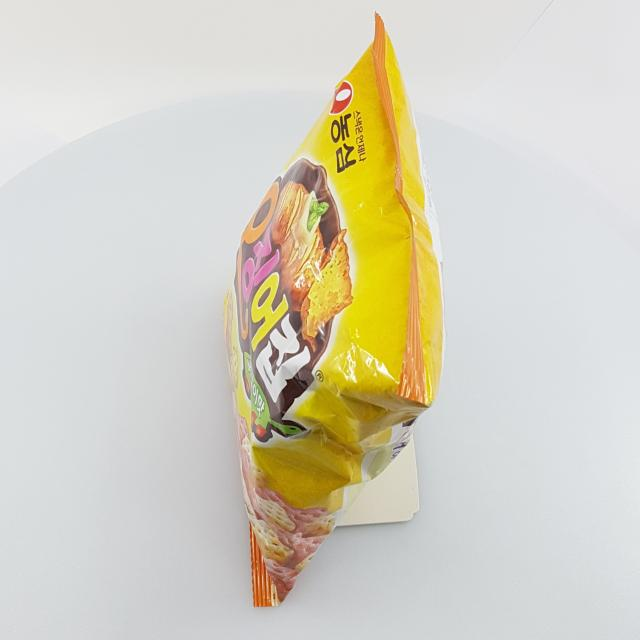-83G: (224, 12, 447, 608)
